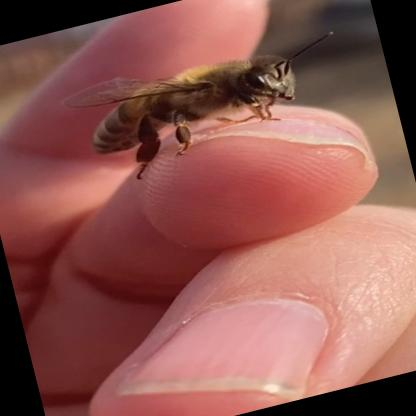bee: (51, 0, 378, 206)
